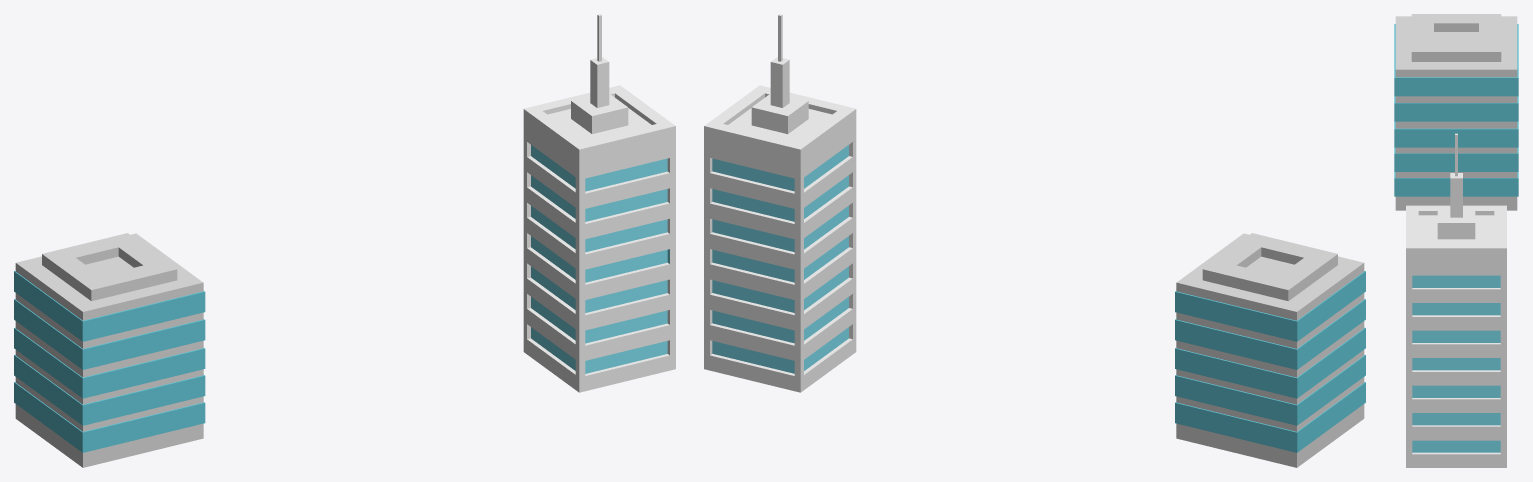
The model's file is buildings.fbx.
3 views of the same model, side by side, from view 1: azimuth 30°, elevation 25°; view 2: azimuth 150°, elevation 25°; view 3: azimuth 270°, elevation 25° (orthographic). The views are drawn at different scales.
Visible parts, largest first — view 1: Cube.021, Cube, Cube.025, Cube.001, Cube.016, Cube.012, Cube.008, Cube.017, Cube.020, Cube.005, Cube.004, Cube.009 (+1 smaller); view 2: Cube.021, Cube, Cube.025, Cube.014, Cube.010, Cube.019, Cube.003, Cube.006, Cube.020, Cube.004, Cube.009, Cube.005 (+1 smaller); view 3: Cube.021, Cube, Cube.025, Cube.002, Cube.011, Cube.007, Cube.015, Cube.018.
Boxes of the visible parts, x1,y1,x2,y2 form: Cube.021: [523, 14, 675, 392]; Cube: [15, 233, 203, 467]; Cube.025: [42, 233, 177, 301]; Cube.001: [81, 291, 205, 341]; Cube.016: [81, 375, 205, 425]; Cube.012: [80, 348, 205, 398]; Cube.008: [83, 319, 205, 369]; Cube.017: [83, 402, 205, 452]; Cube.020: [14, 382, 91, 452]; Cube.005: [14, 299, 91, 369]; Cube.004: [14, 271, 91, 341]; Cube.009: [14, 328, 91, 398]; Cube.021: [704, 14, 856, 392]; Cube: [1176, 233, 1364, 467]; Cube.025: [1202, 233, 1337, 301]; Cube.014: [1175, 375, 1296, 425]; Cube.010: [1175, 348, 1299, 398]; Cube.019: [1175, 402, 1299, 452]; Cube.003: [1175, 291, 1296, 341]; Cube.006: [1175, 320, 1299, 369]; Cube.020: [1288, 382, 1365, 452]; Cube.004: [1288, 271, 1365, 341]; Cube.009: [1288, 327, 1365, 398]; Cube.005: [1288, 299, 1365, 369]; Cube.021: [1406, 133, 1506, 467]; Cube: [1395, 16, 1517, 210]; Cube.025: [1411, 14, 1501, 61]; Cube.002: [1394, 74, 1518, 96]; Cube.011: [1394, 125, 1518, 147]; Cube.007: [1394, 99, 1518, 121]; Cube.015: [1394, 150, 1518, 171]; Cube.018: [1394, 174, 1518, 196].
Bounding box in the file's own units: 521 × 287 × 104.
